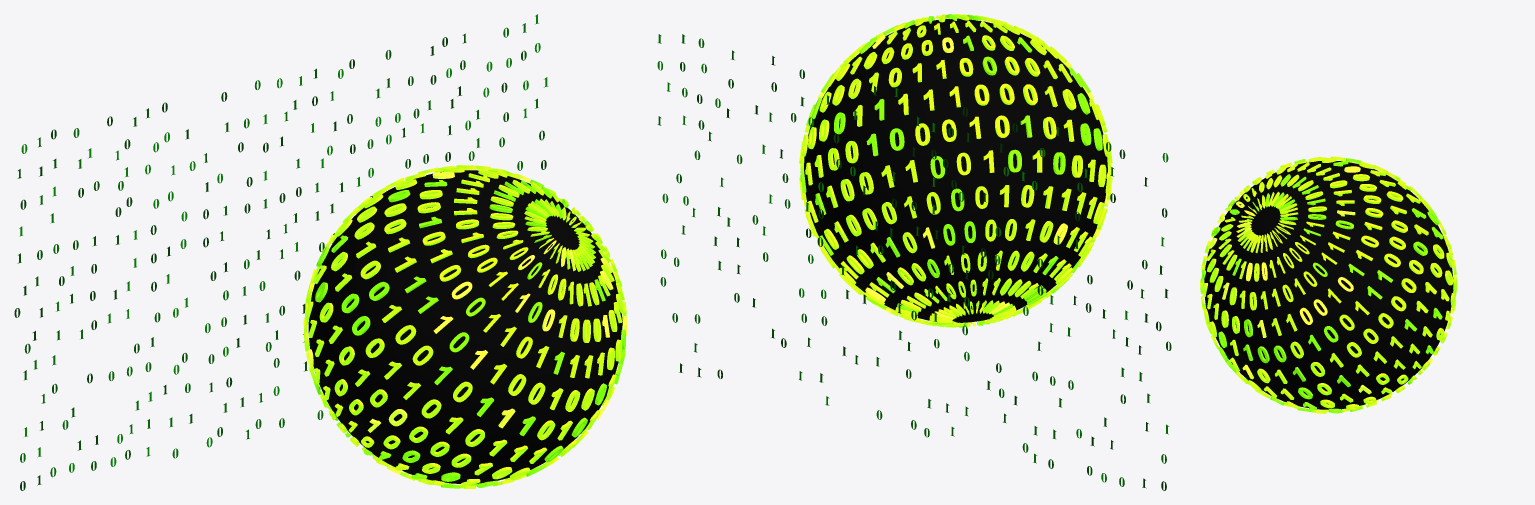
The model's file is globe.glb.
3 renders of one model, left to right at view 1: azimuth 30°, elevation 25°; view 2: azimuth 150°, elevation 25°; view 3: azimuth 270°, elevation 25°, orthographic. The views are drawn at different scales.
Visible parts, largest first — view 1: GLOBE_black_occlusion_core, GLOBE_mesh_Acid_lime_enamel, GLOBE_mesh_Electric_green, GLOBE_mesh_Lime_highlights, MATRIX_mesh_Matrix_green_0, MATRIX_mesh_Matrix_green_3, MATRIX_mesh_Matrix_green_2, MATRIX_mesh_Matrix_green_1; view 2: GLOBE_black_occlusion_core, GLOBE_mesh_Acid_lime_enamel, GLOBE_mesh_Electric_green, MATRIX_mesh_Matrix_green_2, MATRIX_mesh_Matrix_green_0, MATRIX_mesh_Matrix_green_3, MATRIX_mesh_Matrix_green_1, GLOBE_mesh_Lime_highlights; view 3: GLOBE_black_occlusion_core, GLOBE_mesh_Acid_lime_enamel, GLOBE_mesh_Electric_green, GLOBE_mesh_Lime_highlights.
Part boxes in pixels (x1,y1,x2,y2): GLOBE_black_occlusion_core: [308, 170, 622, 483]; GLOBE_mesh_Acid_lime_enamel: [303, 165, 626, 488]; GLOBE_mesh_Electric_green: [313, 179, 625, 488]; GLOBE_mesh_Lime_highlights: [307, 172, 627, 474]; MATRIX_mesh_Matrix_green_0: [14, 37, 546, 490]; MATRIX_mesh_Matrix_green_3: [19, 14, 548, 472]; MATRIX_mesh_Matrix_green_2: [20, 23, 538, 477]; MATRIX_mesh_Matrix_green_1: [17, 33, 544, 470]; GLOBE_black_occlusion_core: [804, 18, 1107, 322]; GLOBE_mesh_Acid_lime_enamel: [799, 14, 1112, 327]; GLOBE_mesh_Electric_green: [800, 14, 1102, 327]; MATRIX_mesh_Matrix_green_2: [657, 34, 1166, 486]; MATRIX_mesh_Matrix_green_0: [697, 56, 1168, 490]; MATRIX_mesh_Matrix_green_3: [657, 34, 1169, 482]; MATRIX_mesh_Matrix_green_1: [679, 50, 1171, 475]; GLOBE_mesh_Lime_highlights: [818, 35, 1108, 327]; GLOBE_black_occlusion_core: [1204, 161, 1453, 409]; GLOBE_mesh_Acid_lime_enamel: [1200, 156, 1457, 413]; GLOBE_mesh_Electric_green: [1200, 158, 1456, 413]; GLOBE_mesh_Lime_highlights: [1208, 166, 1448, 402].
Bounding box in the file's own units: 9.23 × 5.86 × 6.17.
